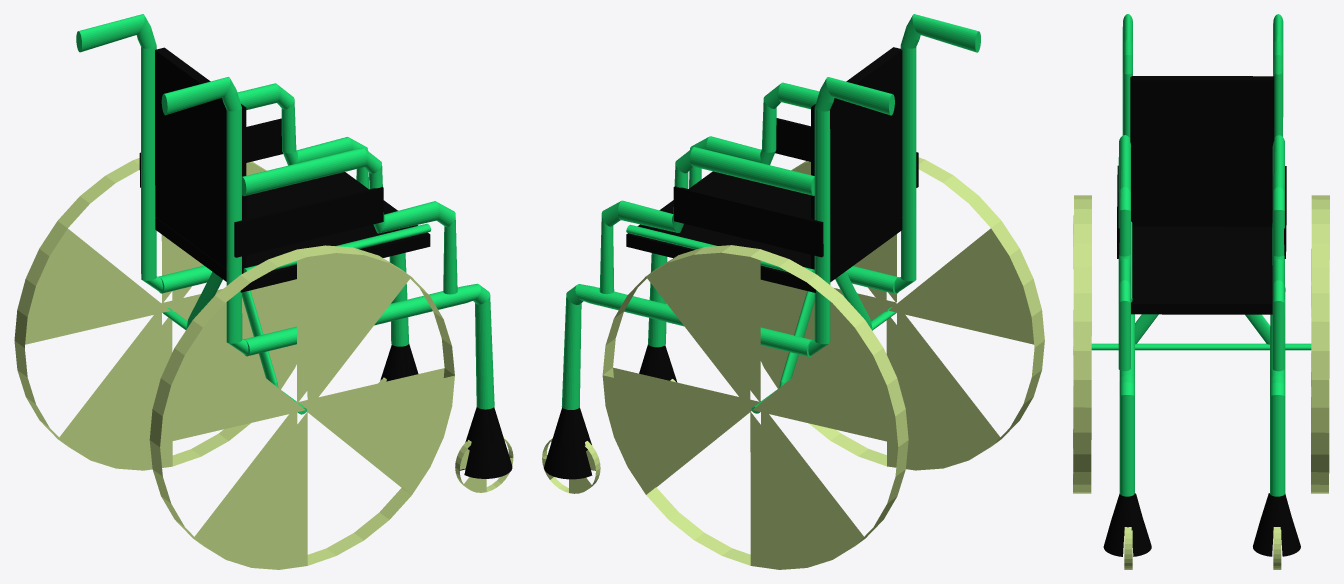
Rendered from Silla de ruedas nivel 3.fbx.
The picture shows the model from 3 angles, left to right: view 1: azimuth 30°, elevation 25°; view 2: azimuth 150°, elevation 25°; view 3: azimuth 270°, elevation 25°; orthographic projection. The views are drawn at different scales.
Parts seen in each view (by area): view 1: silla de ruedas-col.001; view 2: silla de ruedas-col.001; view 3: silla de ruedas-col.001.
Boxes of the visible parts, left/top/right/bottom form: silla de ruedas-col.001: left=14, top=14, right=513, bottom=569; silla de ruedas-col.001: left=542, top=14, right=1044, bottom=569; silla de ruedas-col.001: left=1073, top=14, right=1329, bottom=569.
Size of the model in its own units: 56.59 by 67.47 by 37.49.
